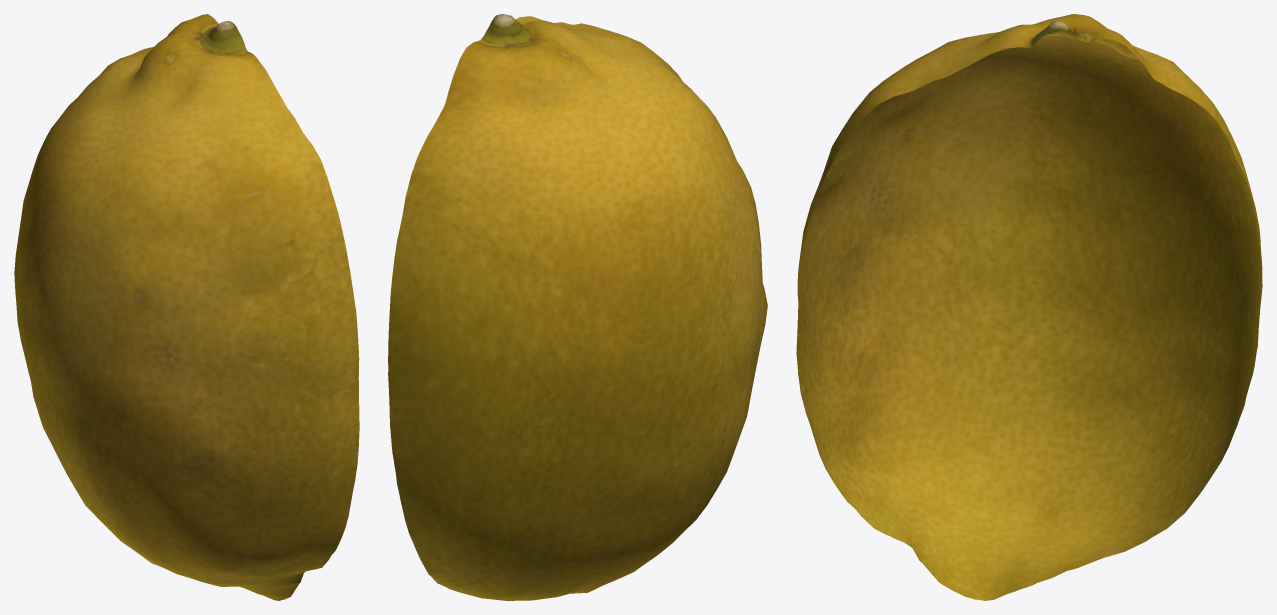
File: halfB.glb
The picture shows the model from 3 angles, left to right: view 1: azimuth 30°, elevation 25°; view 2: azimuth 150°, elevation 25°; view 3: azimuth 270°, elevation 25°; orthographic projection. The views are drawn at different scales.
Visible parts, largest first — view 1: lemon; view 2: lemon; view 3: lemon.
Boxes of the visible parts, <box> form: lemon: <box>14,14,359,600</box>; lemon: <box>388,14,767,600</box>; lemon: <box>796,14,1262,600</box>.
Bounding box in the file's own units: 0.7549 × 1.95 × 1.43.
1 material, 1 textured.
